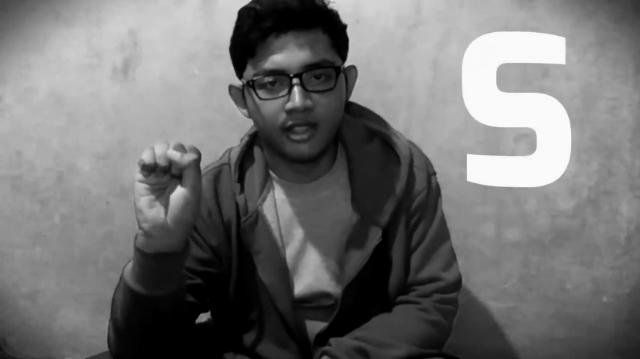S: (135, 142, 201, 222)
